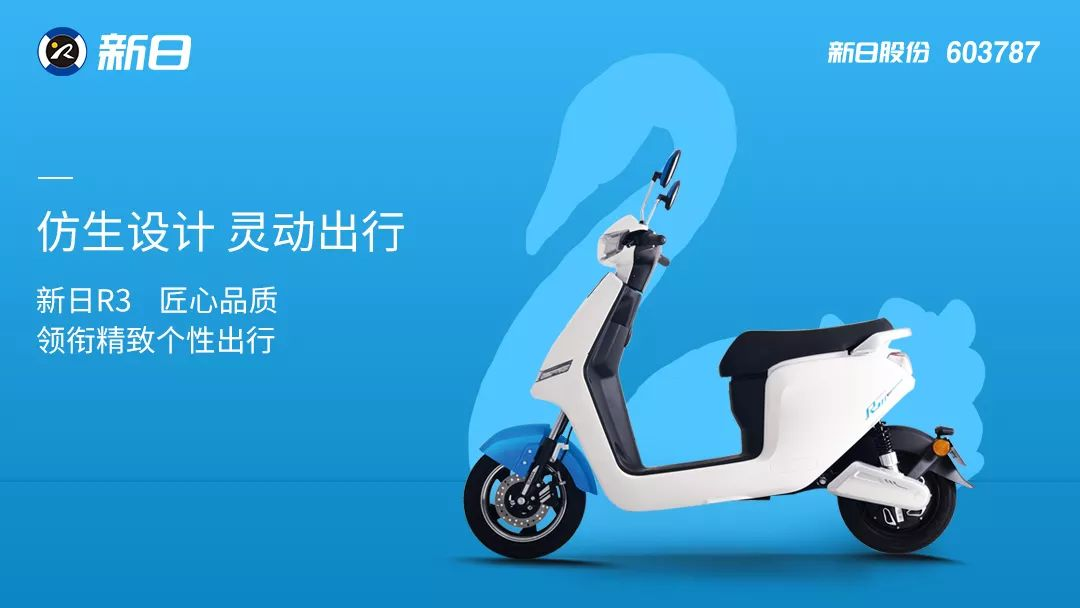电动车: (451, 148, 985, 574)
